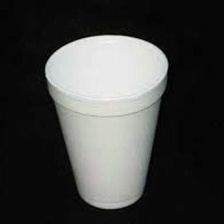paper_cup: (38, 28, 173, 212)
